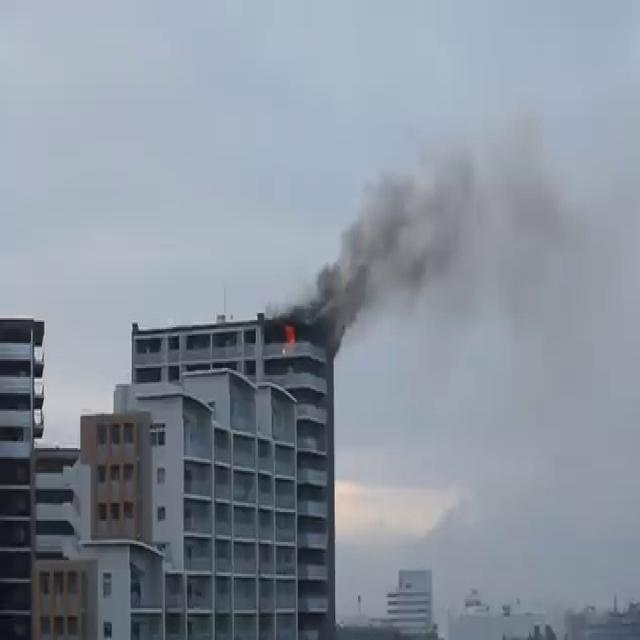Smoke: (288, 101, 588, 363)
